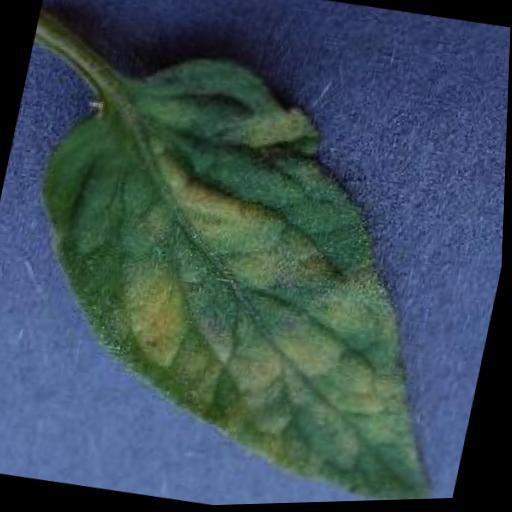Leaf Mold: (0, 25, 511, 512)
